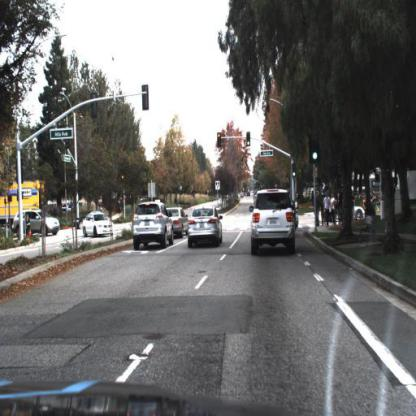car: (250, 188, 300, 256), (132, 200, 177, 253), (187, 203, 225, 254), (12, 209, 62, 239), (13, 211, 61, 238), (81, 212, 118, 238), (166, 207, 193, 238), (73, 210, 107, 229), (244, 200, 264, 221), (354, 201, 366, 222)
pedestrian: (324, 192, 332, 228), (339, 187, 345, 224), (325, 189, 331, 224), (320, 196, 326, 227)
trafficLight: (310, 134, 320, 166)
trafficLight-Green: (246, 130, 252, 147), (292, 163, 297, 179)
trafficLight-RedLeft: (217, 132, 225, 150), (120, 172, 127, 192), (218, 133, 223, 150), (121, 173, 126, 187)
truck: (1, 178, 50, 222)
